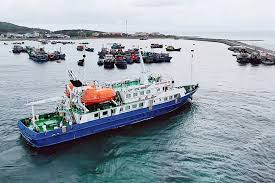tau_dansu: (23, 71, 203, 147), (24, 44, 47, 67), (235, 50, 263, 65), (101, 50, 116, 71), (114, 49, 127, 69), (165, 42, 181, 52)
